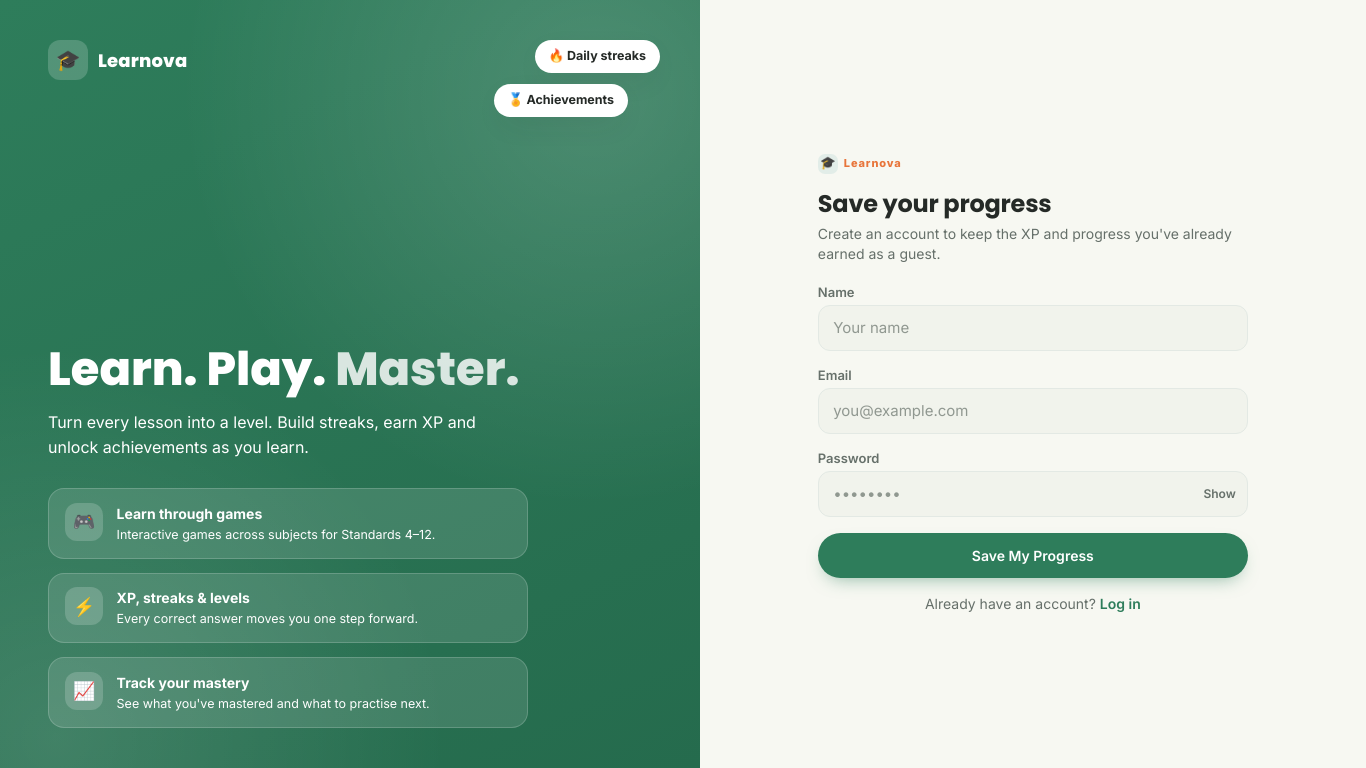
Signup — guest upgrade › shows a busy label distinct from the new-account flow while saving
In the field labelled "Name": point(1033, 328) top-left (818, 305), bottom-right (1248, 351), type "Priya"
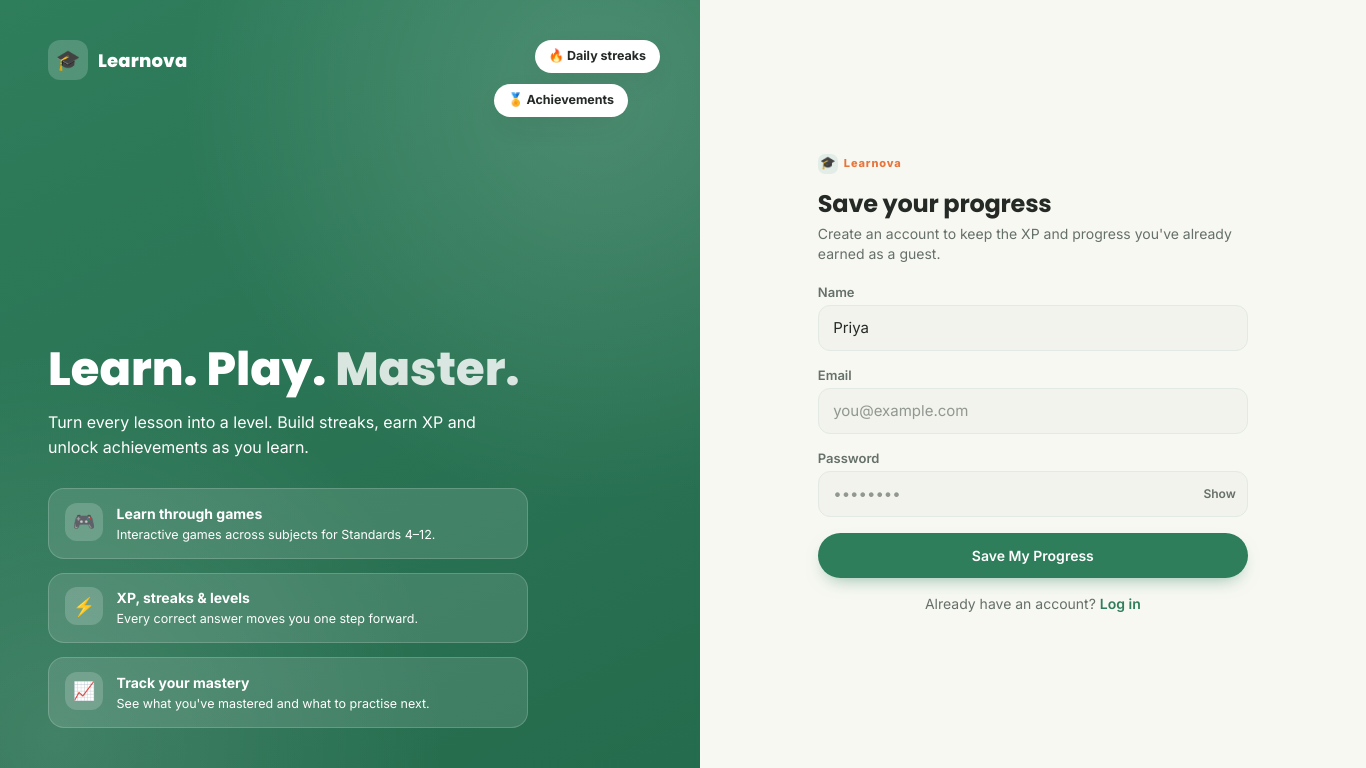
In the field labelled "Email": point(1033, 411) top-left (818, 388), bottom-right (1248, 434), type "priya@example.com"
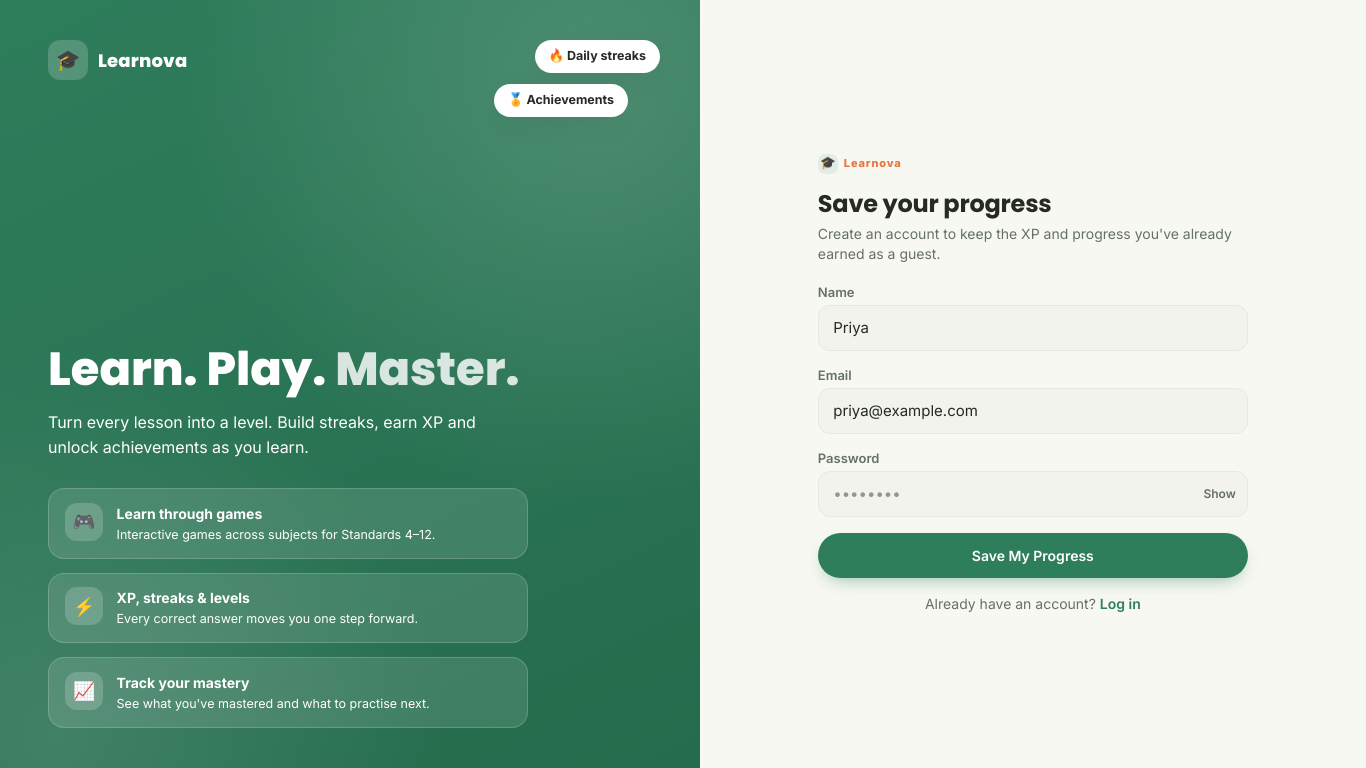
In the password field labelled "Password": point(1033, 494) top-left (818, 471), bottom-right (1248, 517), type "secret123"
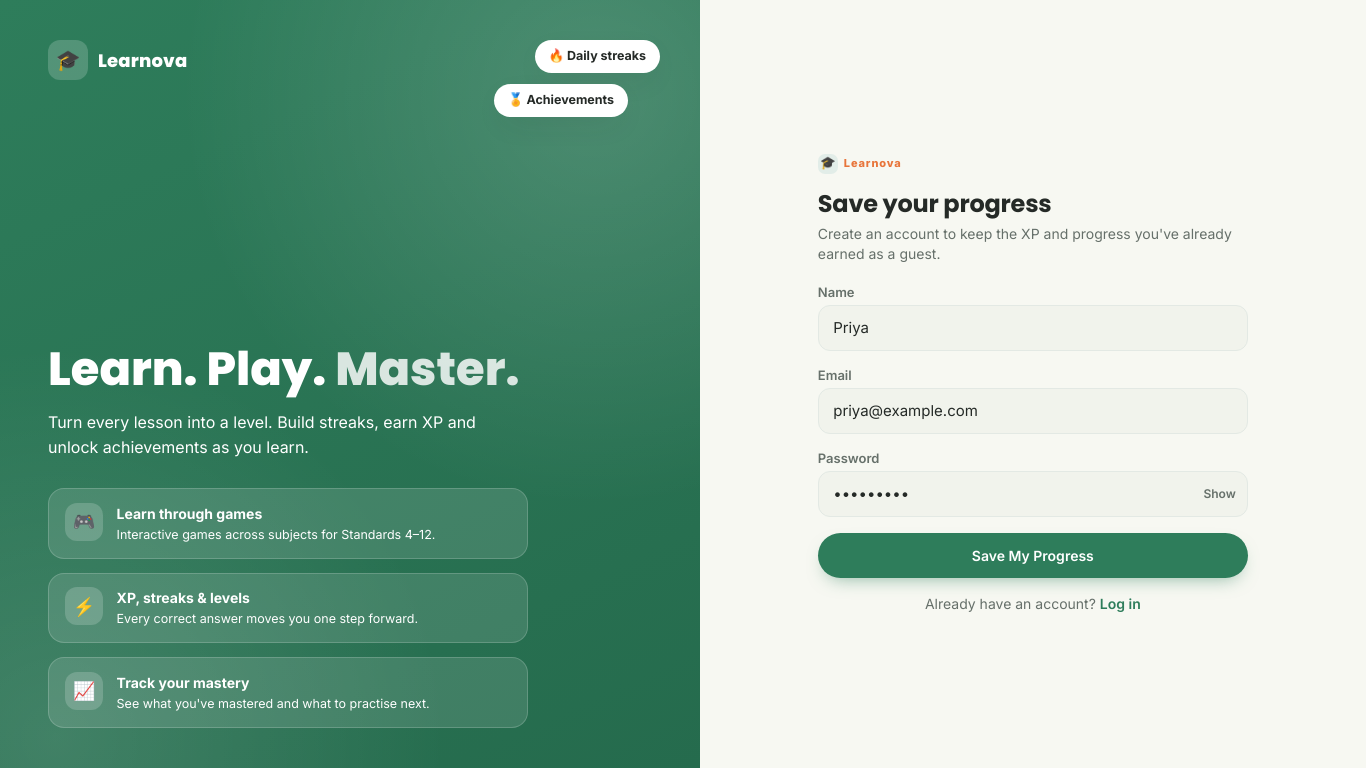
Click the button "Save My Progress": point(1033, 556) top-left (818, 533), bottom-right (1248, 578)
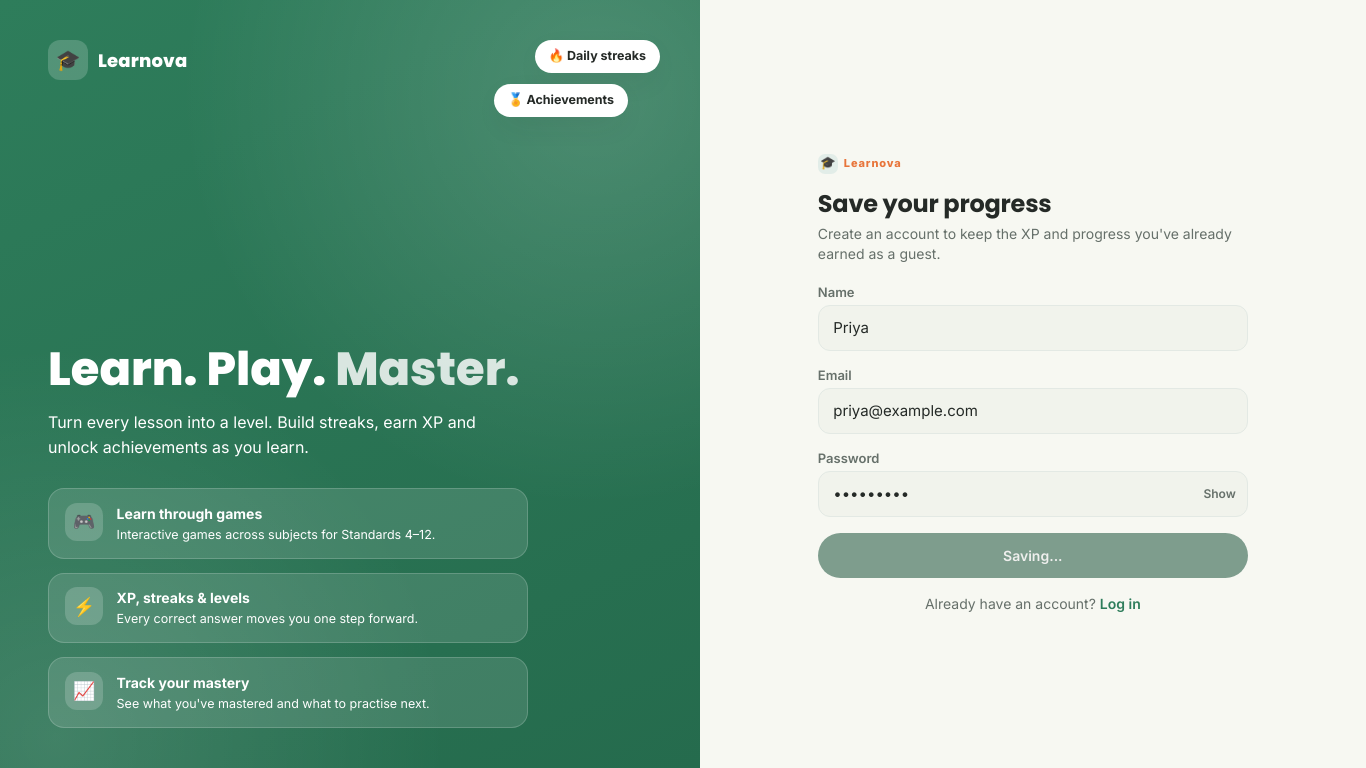
Check: the button "Saving..." is shown, box top-left (818, 533), bottom-right (1248, 578)
